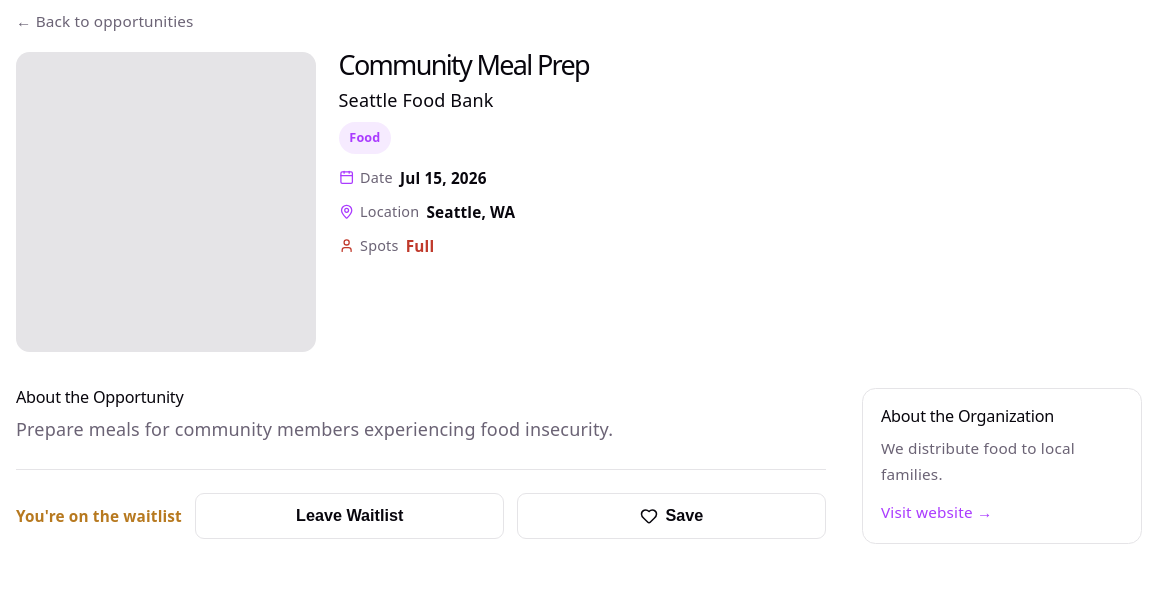
Scenario: OpportunityDetailsPage › shows an error message when leaving the waitlist fails
What coordinates should you click on to do the following:
click the button "Leave Waitlist"
I would click on:
 (350, 516)
Its box is [196,493,504,539].
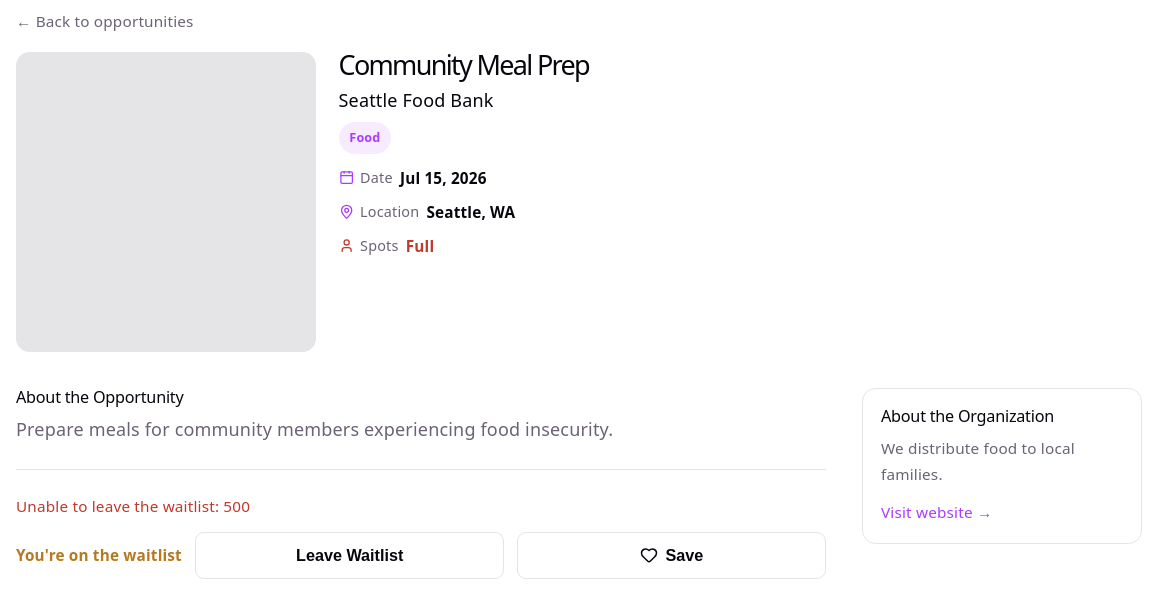
expect the button "Leave Waitlist" is shown: met, box [196,532,504,579]
expect the message reads "Unable to leave the waitlist: 500": met, box [16,496,250,516]
